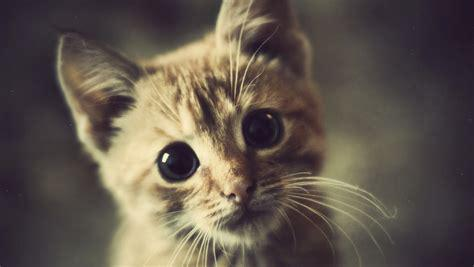cat: (56, 1, 344, 267)
